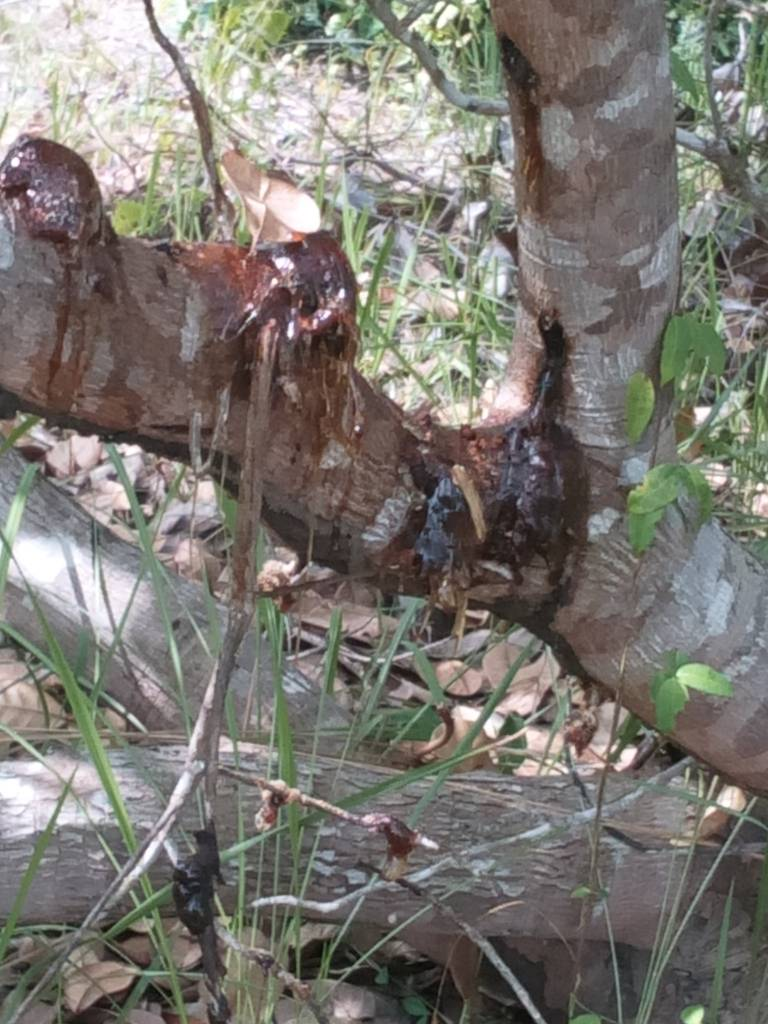Mecocorynus longiceps: (439, 367, 621, 600), (216, 211, 397, 407), (1, 110, 139, 276)
